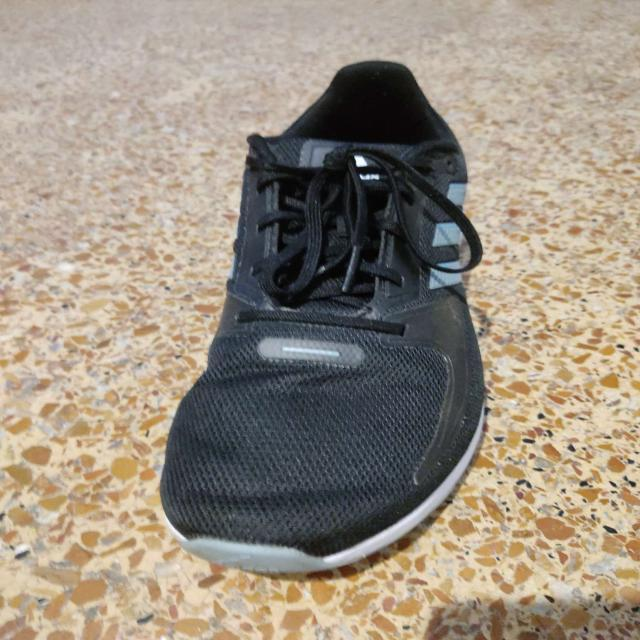shoes: (159, 56, 487, 578)
